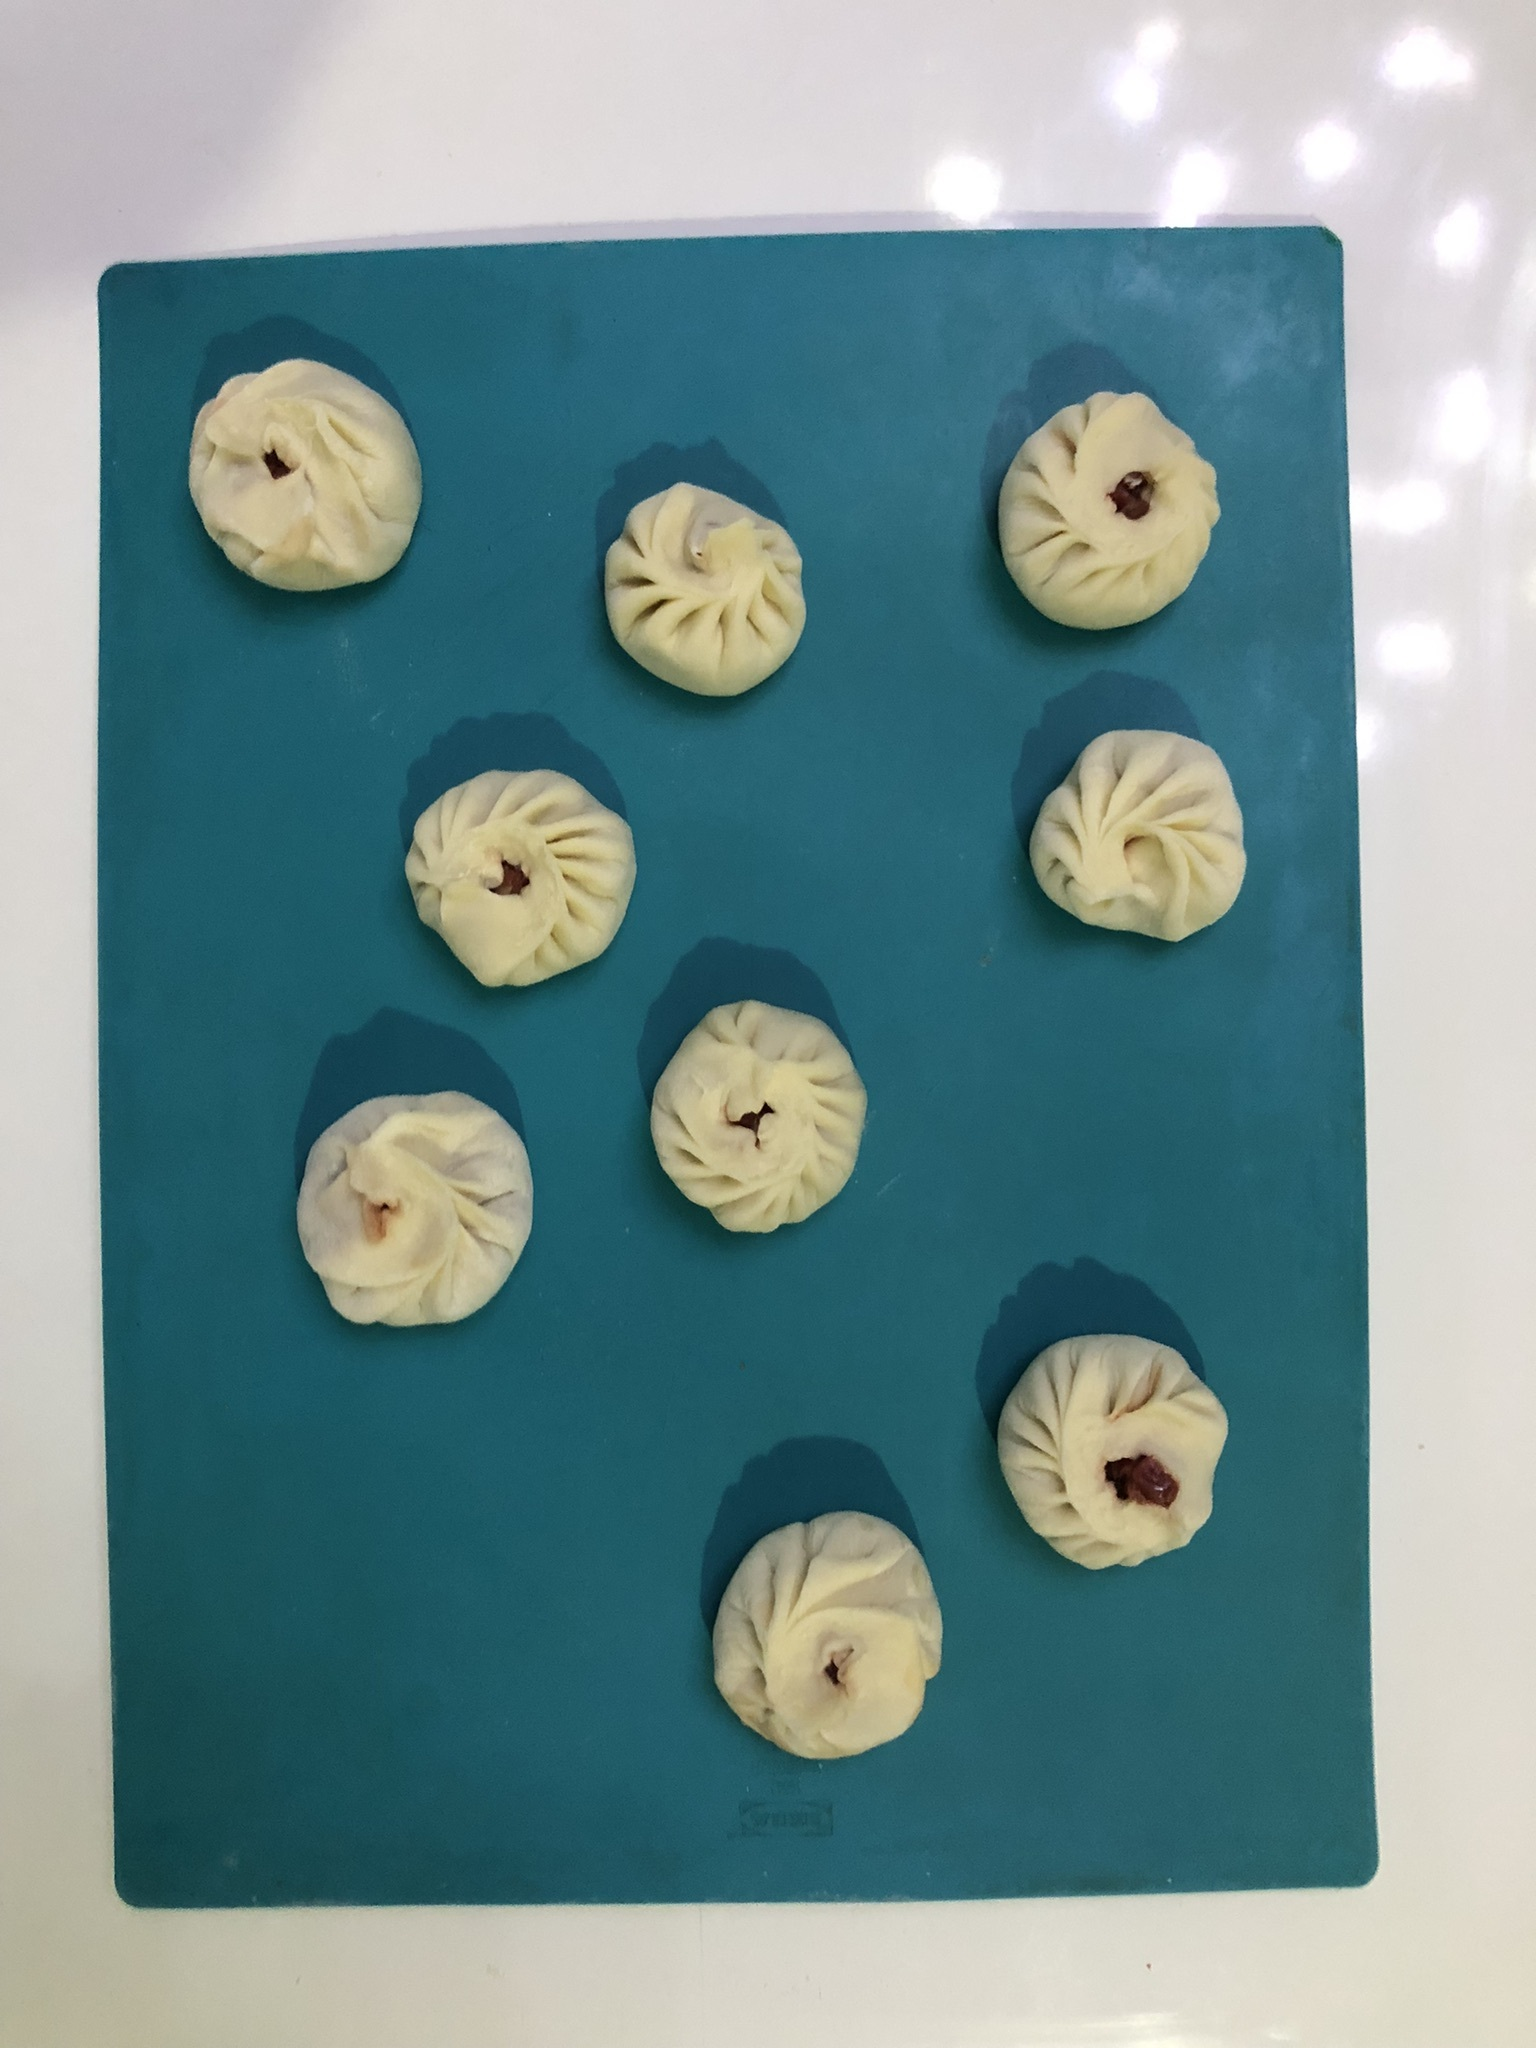buuz: (975, 1319, 1249, 1587), (284, 1072, 545, 1350), (174, 342, 436, 610), (699, 1496, 949, 1772), (981, 381, 1233, 642), (400, 747, 650, 1000), (1013, 713, 1258, 963), (636, 990, 878, 1242), (587, 474, 826, 713)
